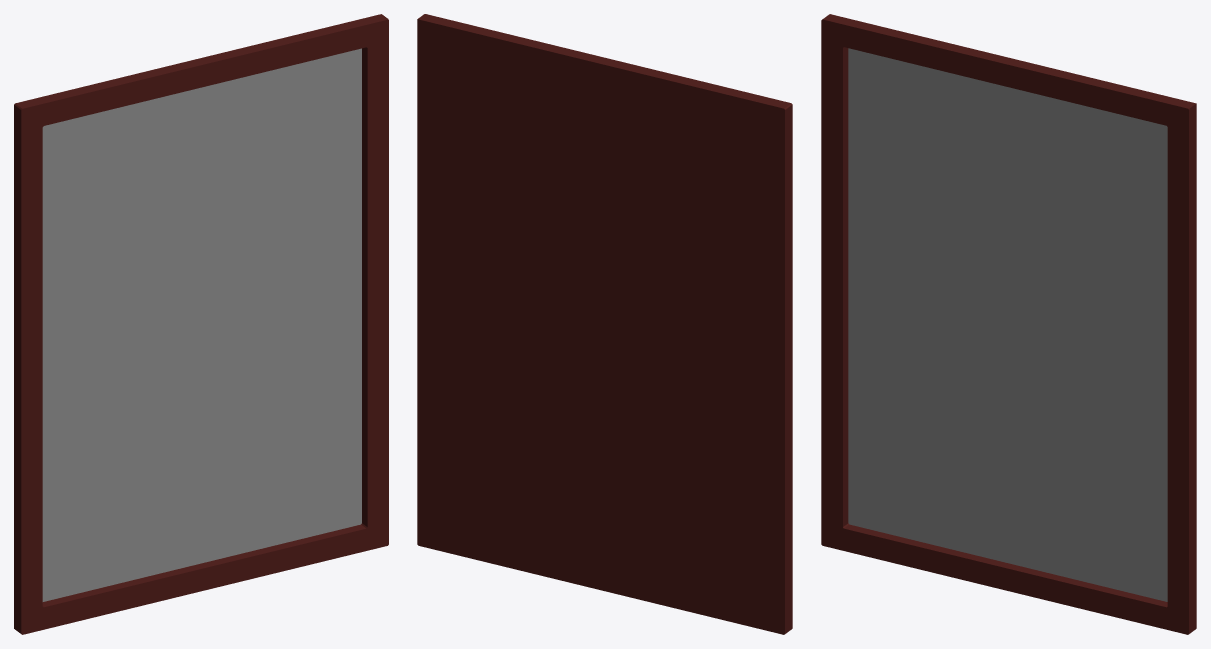
File: mirror.FBX
3 views of the same model, side by side, from view 1: azimuth 30°, elevation 25°; view 2: azimuth 150°, elevation 25°; view 3: azimuth 330°, elevation 25° (orthographic).
Visible parts, largest first — view 1: Mirror; view 2: Mirror; view 3: Mirror.
Boxes of the visible parts, x1,y1,x2,y2 form: Mirror: (14,14,388,634); Mirror: (417,14,792,634); Mirror: (821,14,1196,634).
Size of the model in its own units: 100 by 137 by 3.5.
